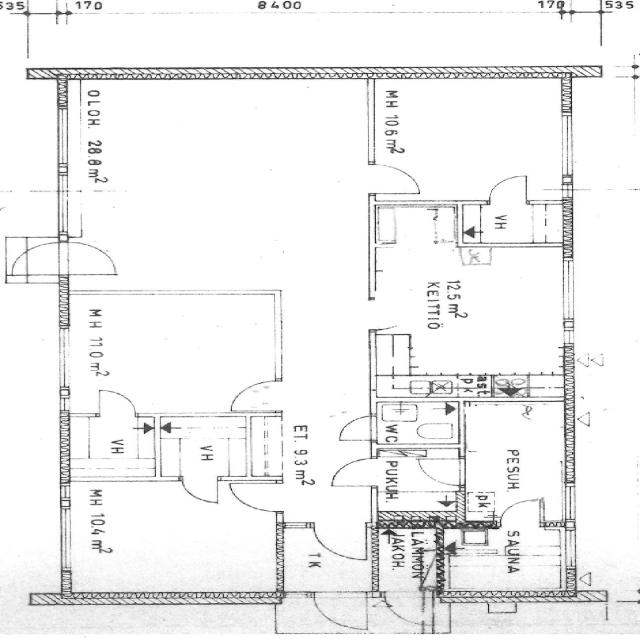door: (308, 525, 371, 565), (61, 237, 122, 278), (8, 238, 68, 278), (223, 478, 287, 514), (310, 593, 372, 629), (225, 378, 283, 413), (366, 161, 424, 196), (325, 456, 383, 488), (414, 454, 467, 489), (481, 172, 534, 206), (494, 496, 547, 529), (92, 387, 141, 420), (383, 592, 428, 625), (176, 474, 222, 506), (331, 413, 380, 443)
window: (47, 101, 78, 174), (50, 501, 79, 570), (51, 324, 78, 393), (554, 256, 581, 321), (556, 110, 581, 178), (51, 187, 77, 237), (558, 527, 581, 571), (558, 480, 581, 523), (558, 318, 579, 352), (54, 392, 71, 416)
zone: (64, 76, 368, 293), (62, 290, 366, 412), (368, 248, 573, 398), (60, 478, 286, 595), (370, 75, 572, 203), (461, 401, 570, 524), (443, 524, 571, 597), (62, 416, 158, 478), (157, 417, 252, 478), (368, 526, 446, 592), (454, 202, 566, 246), (371, 398, 460, 448), (369, 206, 456, 247), (223, 478, 287, 514)
